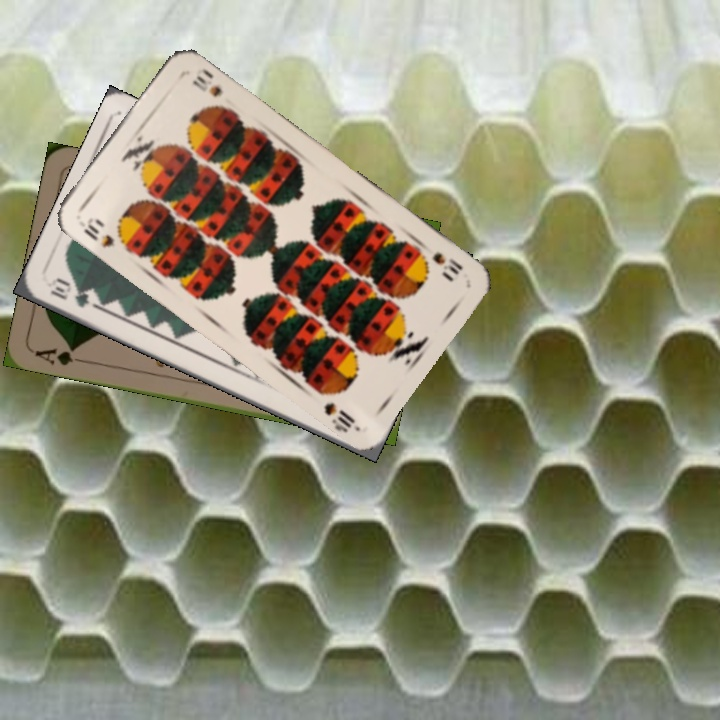G10: (46, 274, 92, 310)
GA: (31, 343, 90, 368)
S10: (79, 213, 117, 251), (428, 248, 466, 282)
